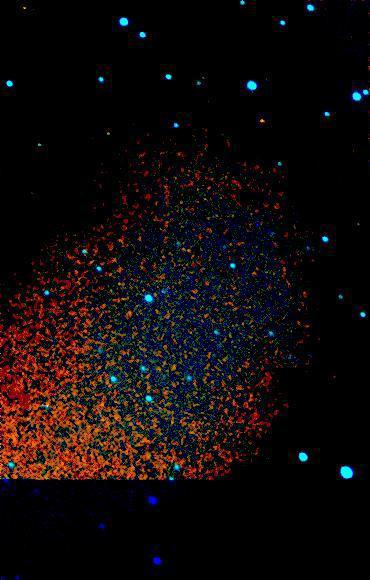star: (246, 105, 276, 135)
